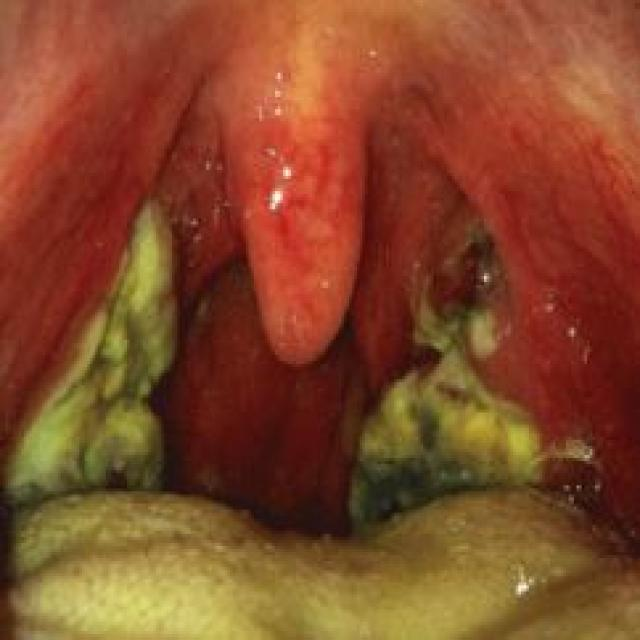pharyngitis: (321, 214, 618, 547), (0, 191, 201, 510)
